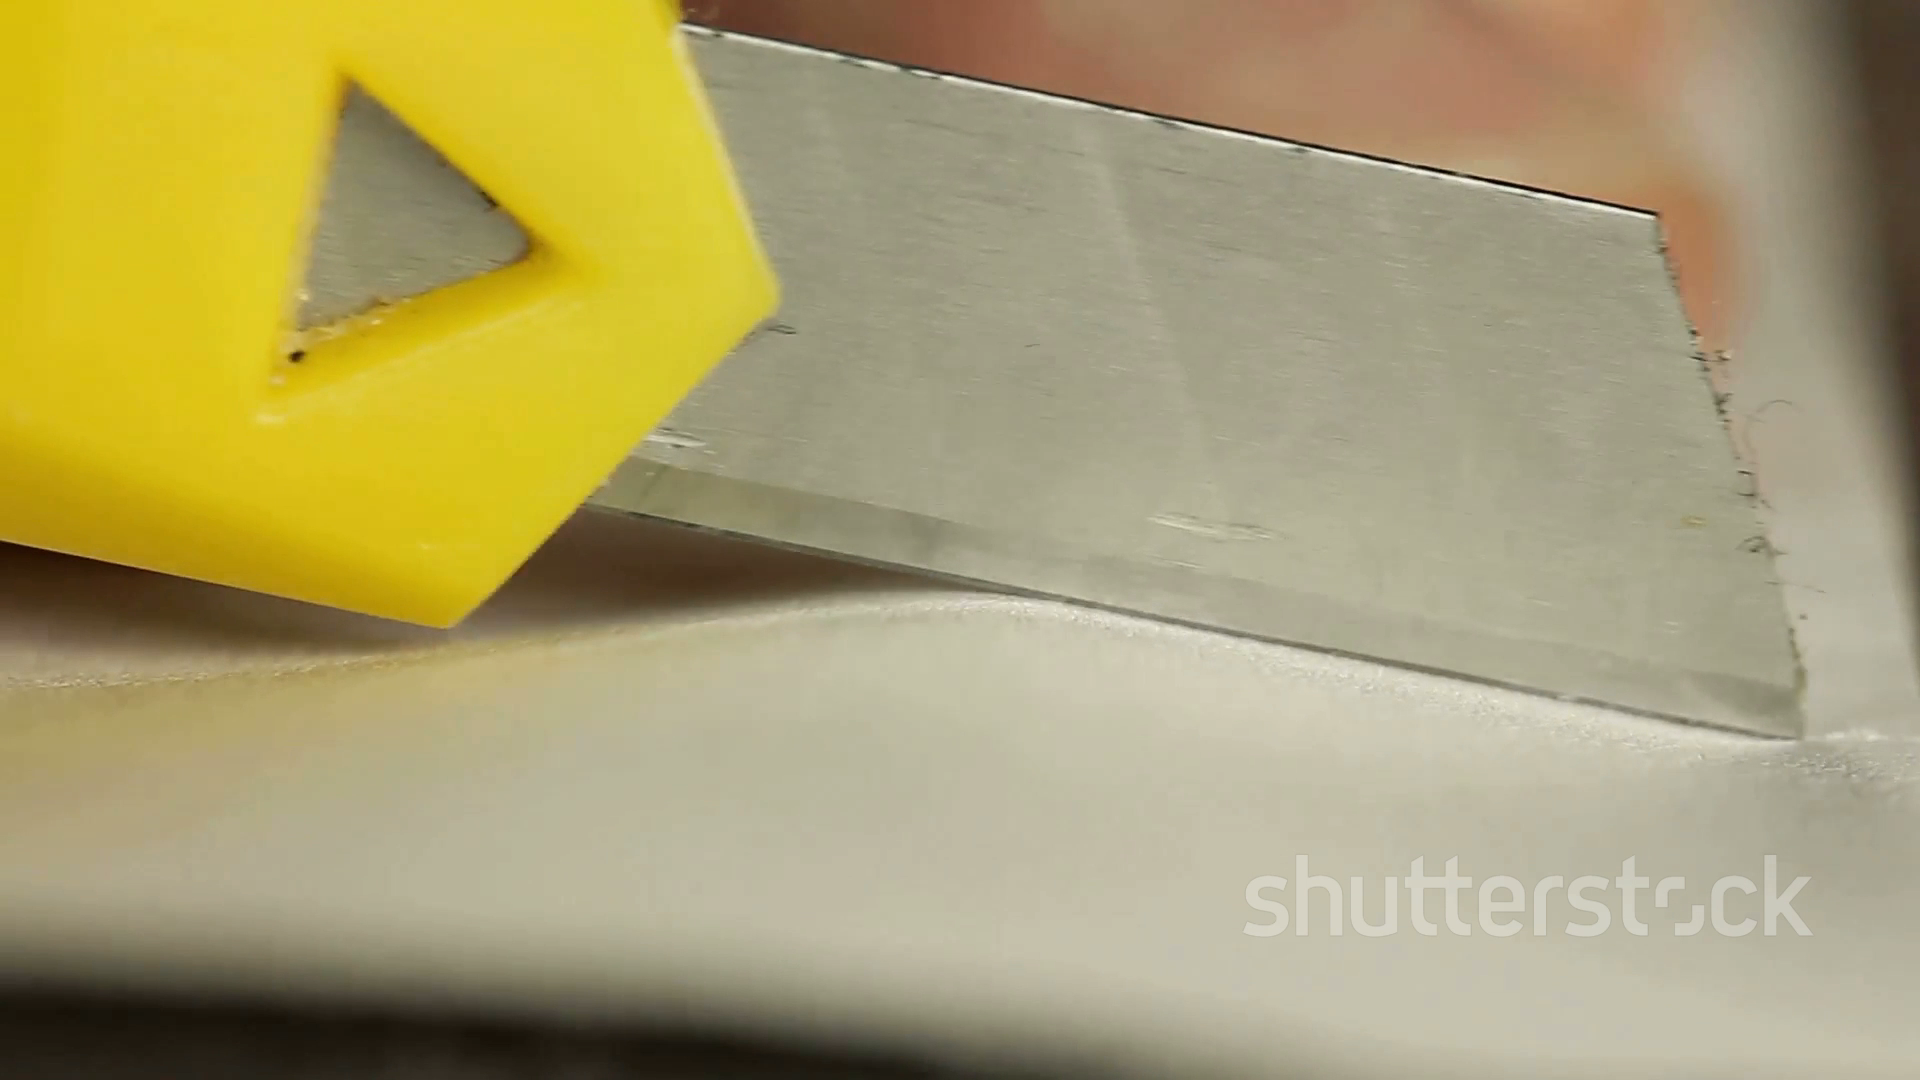cortante: (585, 25, 1807, 740)
